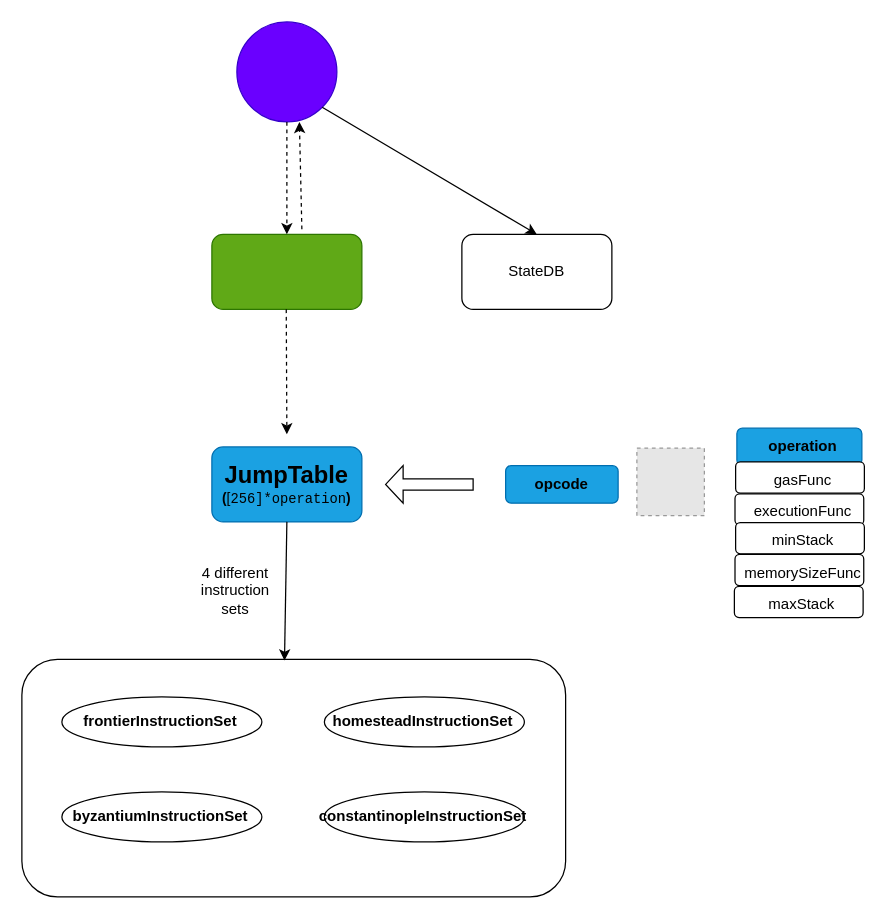
Some shapes in this 886 by 919 pixel diagram are drawn without their labels. Grey dashed boxes stand in for pictures. Here are the shapes that lost their labels. From the top down, the box of each, then its label:
(236, 21, 337, 122): EVM
(211, 233, 362, 309): Interpreter
